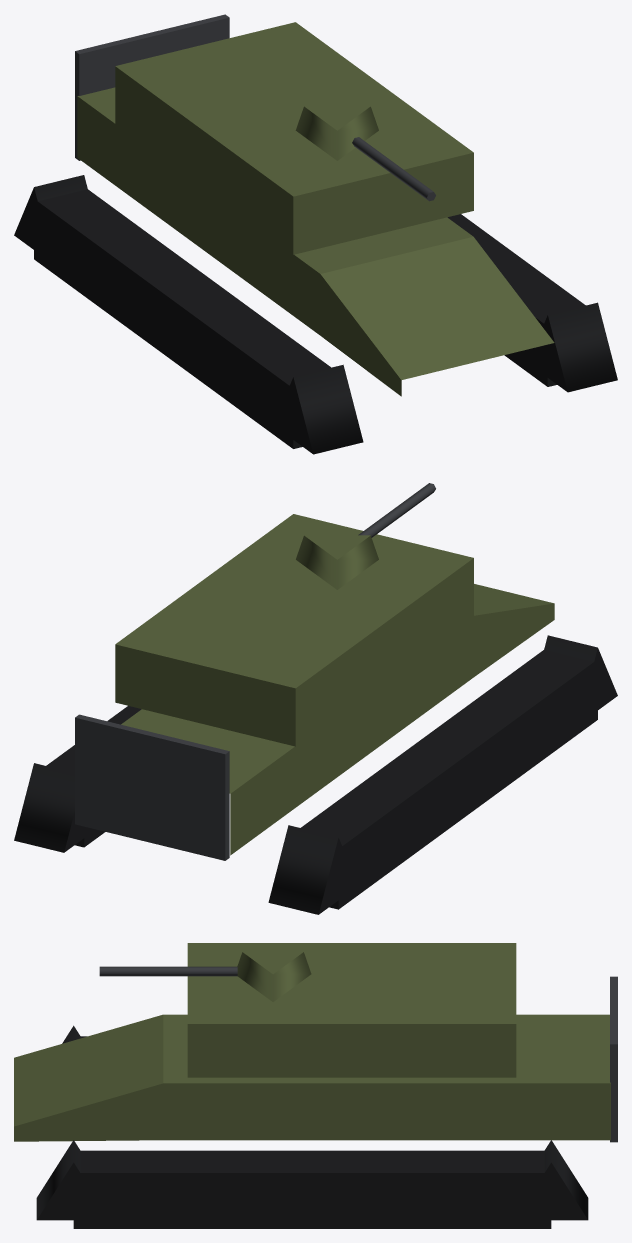
The model's file is veh_ground_apc_tracked_a06_lod2.glb.
3 views of the same model, one above another, from view 1: azimuth 30°, elevation 25°; view 2: azimuth 150°, elevation 25°; view 3: azimuth 270°, elevation 25° (orthographic). The views are drawn at different scales.
Parts seen in each view (by area): view 1: body, track_r, track_l, ramp, gun; view 2: body, track_r, ramp, track_l, gun; view 3: body, track_l, gun, ramp.
Part boxes in pixels (box(x1,y1,x2,y2)): body: box(77, 22, 554, 396); track_r: box(14, 175, 363, 454); track_l: box(447, 214, 617, 392); ramp: box(75, 14, 229, 160); gun: box(295, 106, 435, 201); body: box(115, 514, 554, 855); track_r: box(268, 635, 617, 914); ramp: box(75, 714, 229, 860); track_l: box(14, 706, 141, 852); gun: box(296, 483, 435, 589); body: box(14, 943, 610, 1141); track_l: box(36, 1140, 588, 1228); gun: box(99, 952, 311, 1001); ramp: box(610, 976, 617, 1142).
Size of the model in its own units: 3.29 by 2.25 by 6.13.
